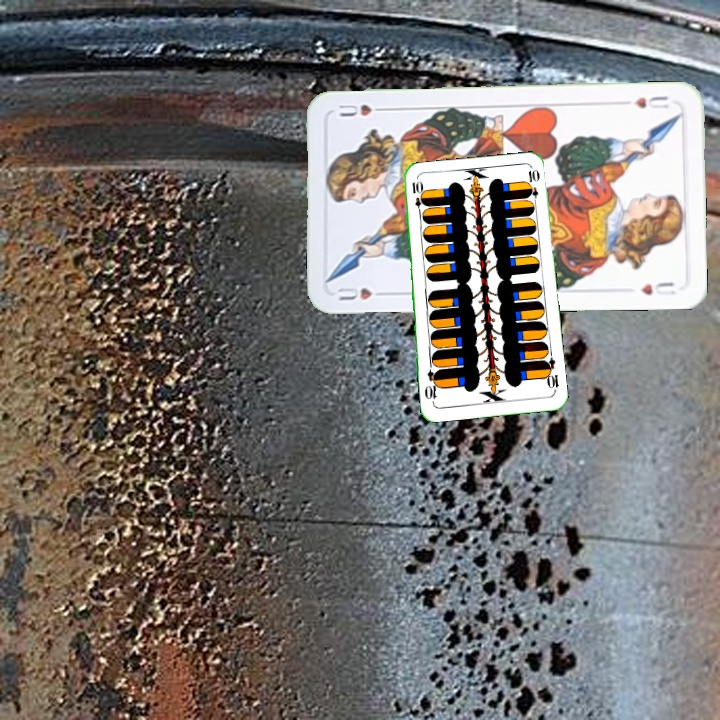E10: (540, 354, 561, 394), (408, 177, 423, 218)
HU: (334, 283, 391, 303), (630, 91, 671, 111)
